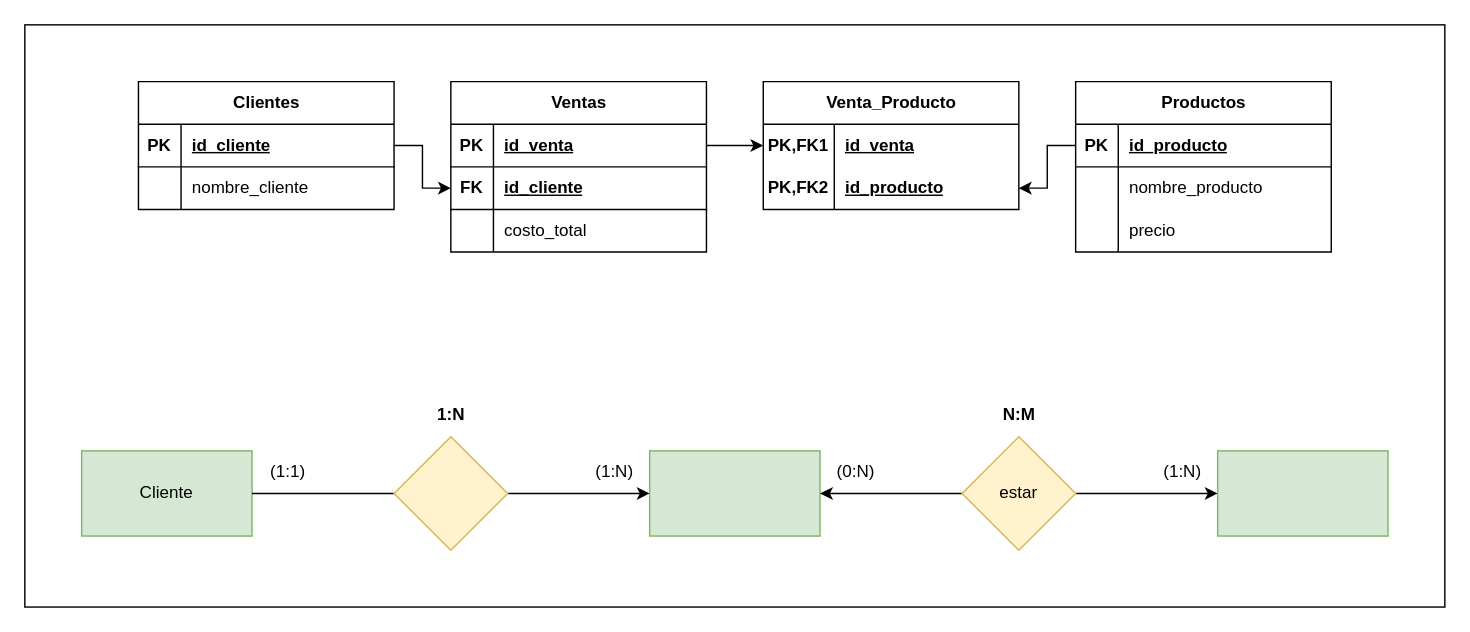
Some shapes in this 1470 by 632 pixel diagram are drawn without their labels. Here are the shapes that lost their labels. From the top down, the centre of each, then its label:
At point (450, 492): "comprar".
At point (734, 492): "Venta".
At point (1302, 492): "Producto".
